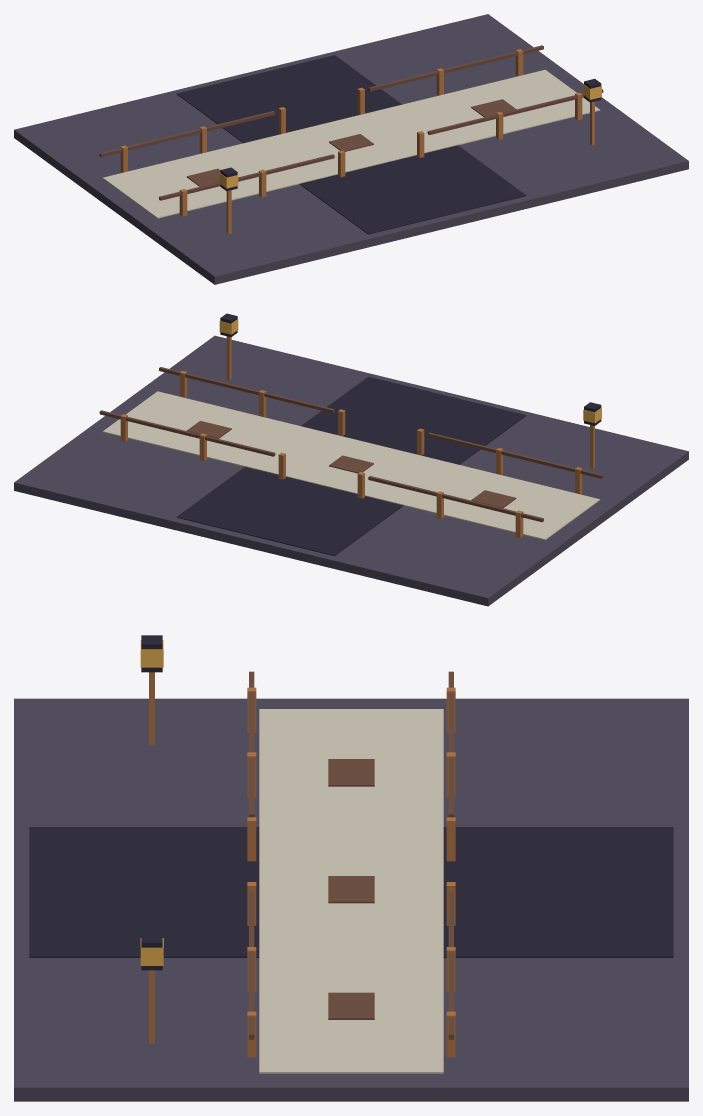
The model's file is ash_bridge.glb.
3 views of the same model, one above another, from view 1: azimuth 30°, elevation 25°; view 2: azimuth 150°, elevation 25°; view 3: azimuth 270°, elevation 25° (orthographic). The views are drawn at different scales.
Parts seen in each view (by area): view 1: ash_bridge; view 2: ash_bridge; view 3: ash_bridge.
Part boxes in pixels (box(x1,y1,x2,y2)): ash_bridge: box(14, 14, 688, 284); ash_bridge: box(14, 313, 688, 606); ash_bridge: box(14, 635, 688, 1101).
Bounding box in the file's own units: 60 × 8.5 × 44.
